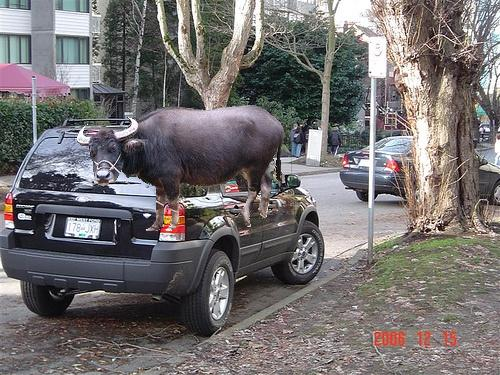tampered: (78, 106, 285, 231)
